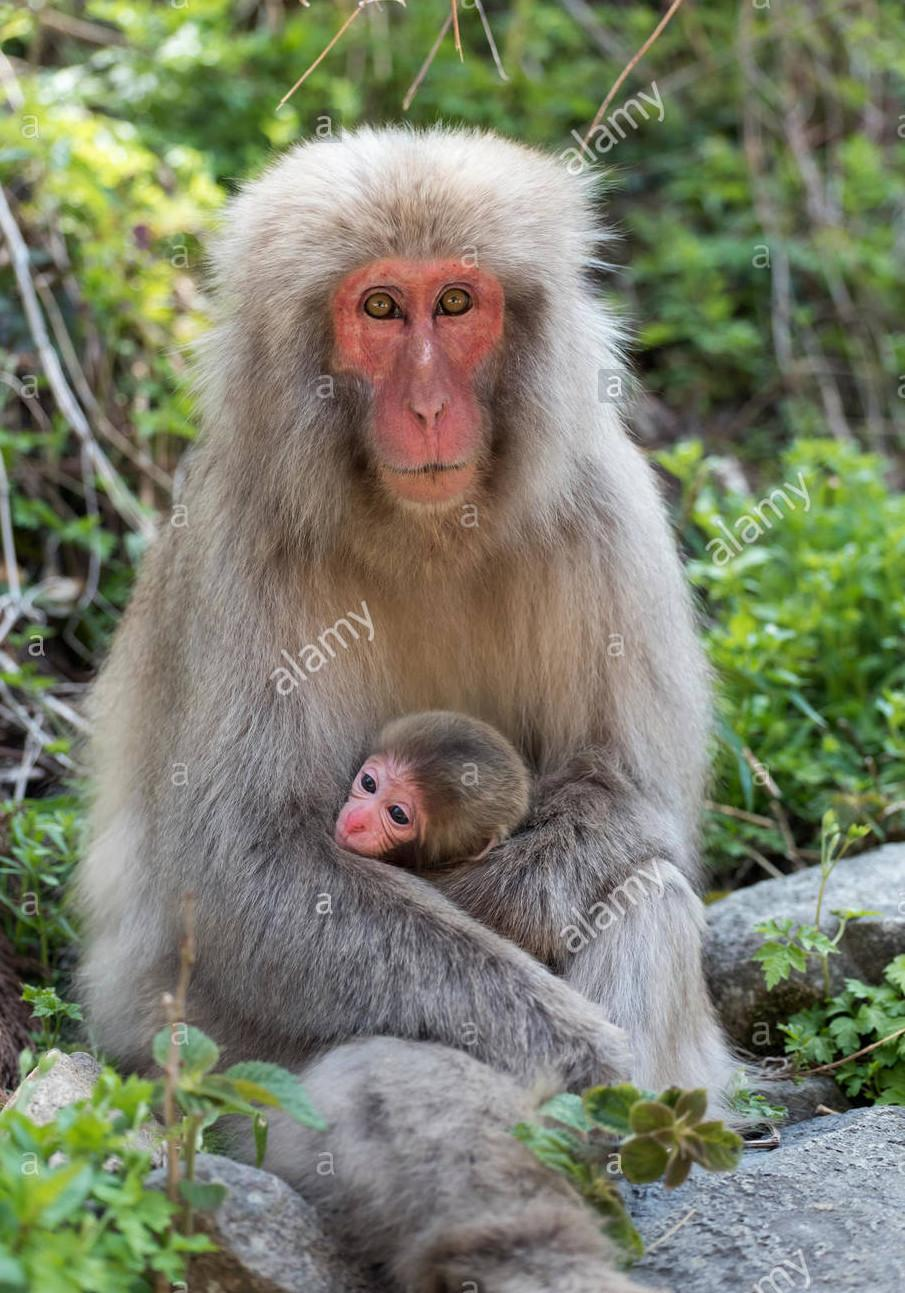monkey: (84, 133, 736, 1123)
